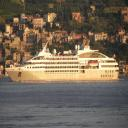cruises: (6, 41, 122, 85)
